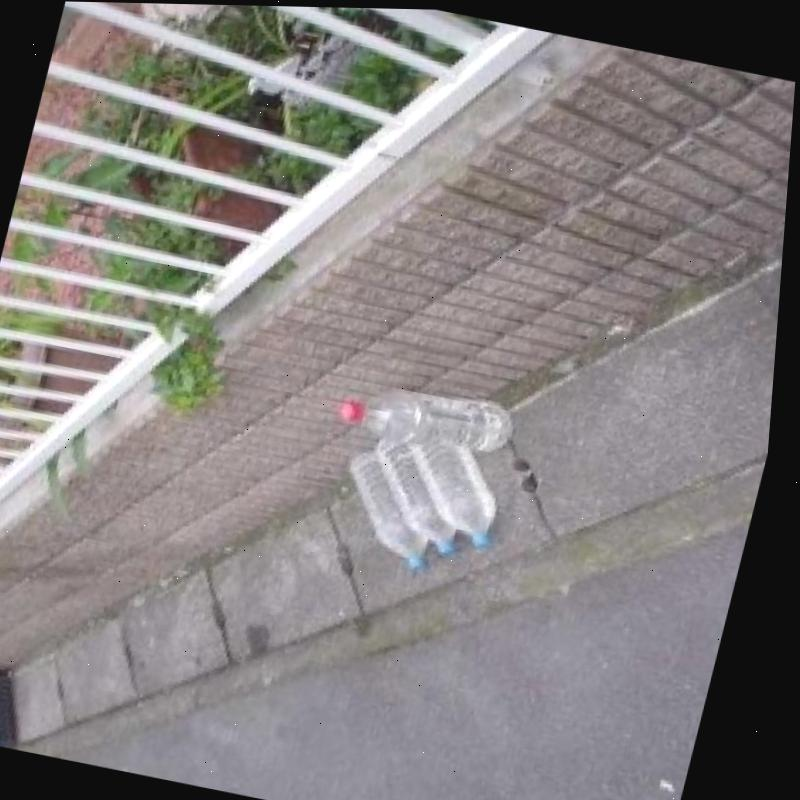botella: (342, 368, 534, 464), (334, 442, 465, 571), (362, 432, 489, 554), (395, 432, 523, 549)
